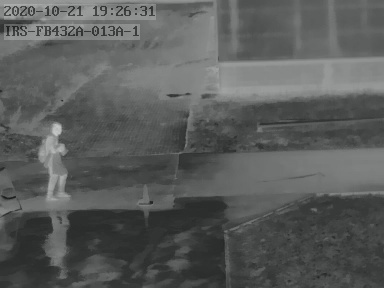person: (39, 122, 71, 200)
